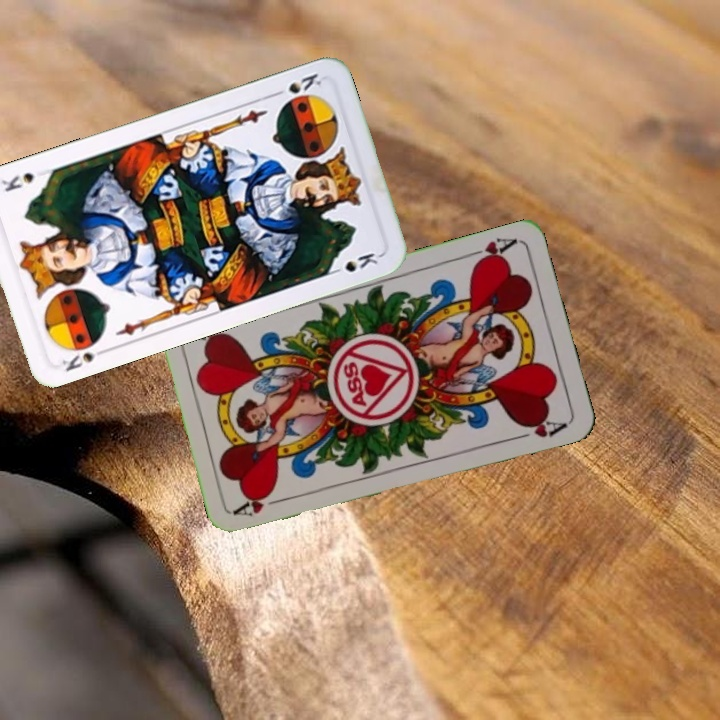HA: (461, 233, 519, 269), (231, 490, 290, 519)
SK: (268, 69, 324, 99), (58, 344, 111, 374)
